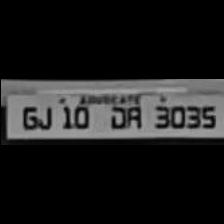0: (72, 96, 100, 130), (168, 101, 184, 129)
1: (56, 96, 74, 130)
3: (149, 99, 169, 130), (183, 98, 200, 130)
5: (203, 96, 219, 130)
A: (126, 96, 142, 130)
D: (104, 93, 124, 129)
G: (19, 96, 39, 130)
J: (40, 99, 52, 130)
